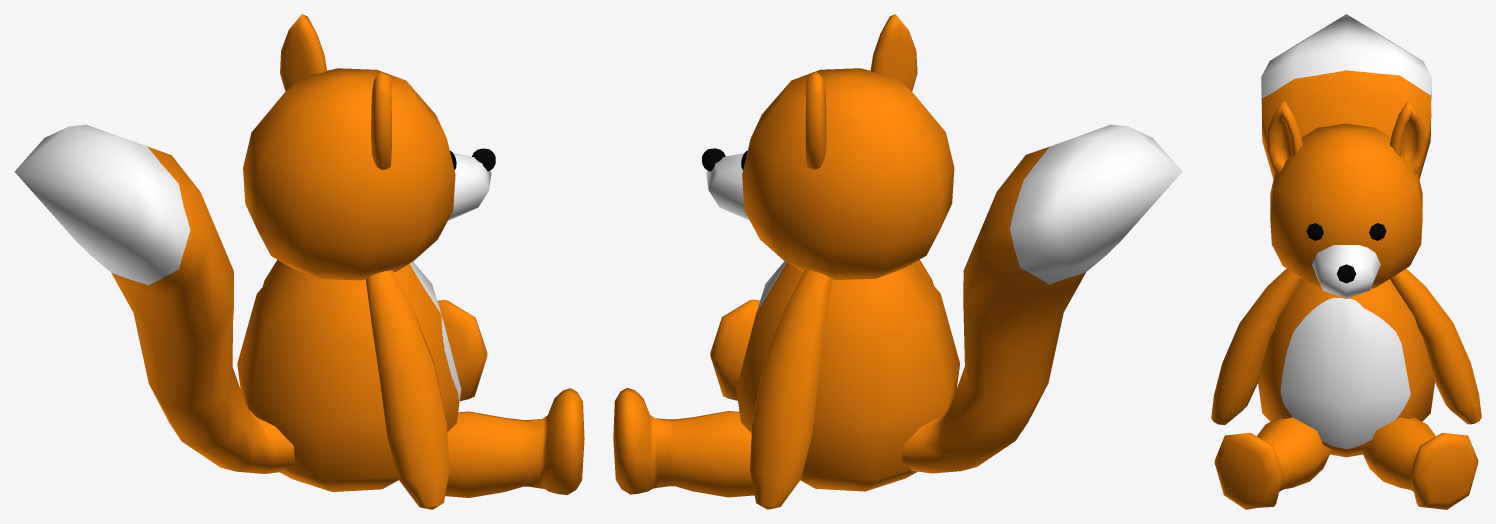
Rendered from TheEverSoSlightlyFantasticMrFox.fbx.
3 renders of one model, left to right at view 1: azimuth 30°, elevation 25°; view 2: azimuth 150°, elevation 25°; view 3: azimuth 270°, elevation 25°, orthographic. The views are drawn at different scales.
Visible parts, largest first — view 1: polySurface45, polySurface98, polySurface48, polySurface40, polySurface42, polySurface39, polySurface100, polySurface99, polySurface95; view 2: polySurface45, polySurface98, polySurface48, polySurface46, polySurface39, polySurface42, polySurface99, polySurface100, polySurface95; view 3: polySurface48, polySurface98, polySurface45, polySurface39, polySurface42, polySurface40, polySurface46, polySurface95, polySurface99, polySurface100.
Part boxes in pixels (x1,y1,x2,y2): polySurface45: [14, 124, 295, 473]; polySurface98: [243, 68, 455, 280]; polySurface48: [237, 261, 461, 491]; polySurface40: [365, 270, 449, 509]; polySurface42: [445, 388, 584, 497]; polySurface39: [437, 300, 487, 401]; polySurface100: [280, 14, 326, 91]; polySurface99: [371, 72, 391, 169]; polySurface95: [448, 153, 491, 220]; polySurface45: [902, 124, 1182, 473]; polySurface98: [742, 68, 954, 279]; polySurface48: [736, 261, 959, 491]; polySurface46: [750, 270, 831, 509]; polySurface39: [613, 387, 754, 497]; polySurface42: [710, 299, 759, 400]; polySurface99: [870, 14, 917, 91]; polySurface100: [805, 72, 826, 169]; polySurface95: [706, 153, 749, 220]; polySurface48: [1258, 279, 1434, 457]; polySurface98: [1270, 123, 1422, 288]; polySurface45: [1261, 14, 1431, 179]; polySurface39: [1361, 417, 1478, 509]; polySurface42: [1214, 417, 1331, 509]; polySurface40: [1211, 268, 1302, 424]; polySurface46: [1390, 268, 1481, 424]; polySurface95: [1312, 245, 1380, 298]; polySurface99: [1267, 101, 1302, 174]; polySurface100: [1390, 101, 1425, 174].
Size of the model in its own units: 126 by 103 by 72.6.
1 material, 1 textured.
